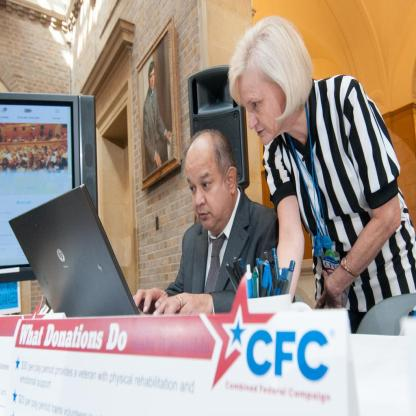board: (0, 142, 150, 336)
